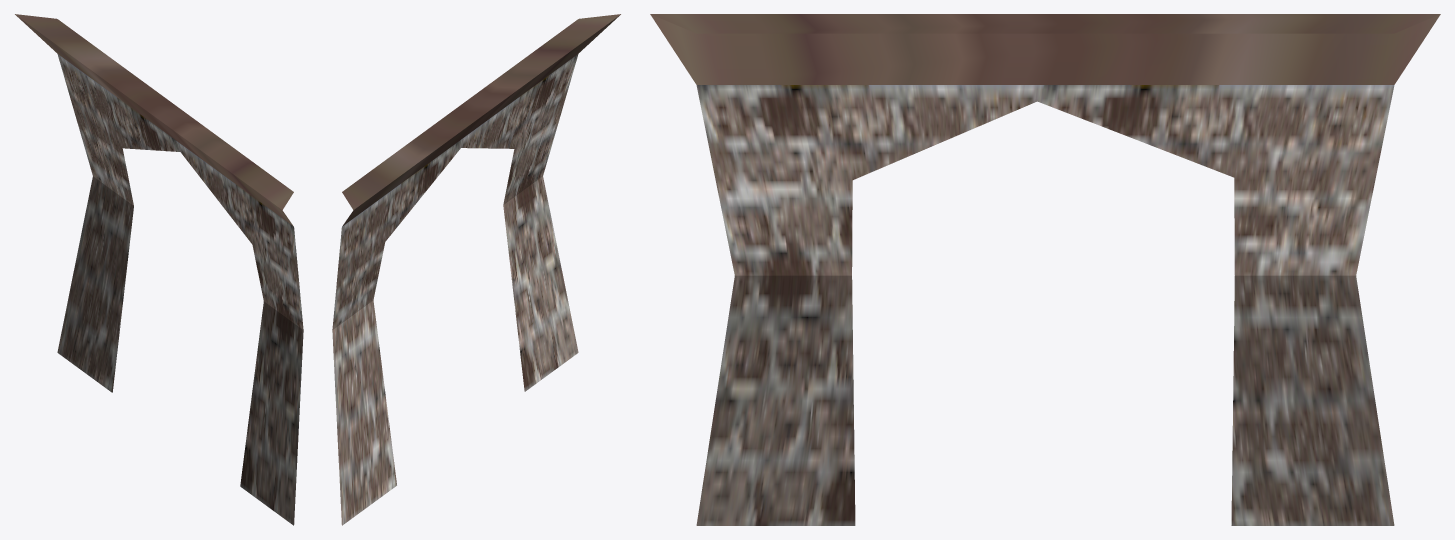
File: W_A1_O [Steine]_1147.glb
3 renders of one model, left to right at view 1: azimuth 30°, elevation 25°; view 2: azimuth 150°, elevation 25°; view 3: azimuth 270°, elevation 25°, orthographic. The views are drawn at different scales.
Parts seen in each view (by area): view 1: pPlaneShape1, polySurfaceShape1065; view 2: pPlaneShape1, polySurfaceShape1065; view 3: pPlaneShape1, polySurfaceShape1065.
Boxes of the visible parts, bbox=[...] form: pPlaneShape1: bbox=[57, 54, 303, 525]; polySurfaceShape1065: bbox=[15, 14, 293, 226]; pPlaneShape1: bbox=[332, 54, 578, 525]; polySurfaceShape1065: bbox=[342, 14, 620, 226]; pPlaneShape1: bbox=[696, 85, 1394, 525]; polySurfaceShape1065: bbox=[650, 14, 1440, 84].
Size of the model in its own units: 0.0607 by 0.3891 by 0.5666.
Materials: 2 (2 with a texture image).
